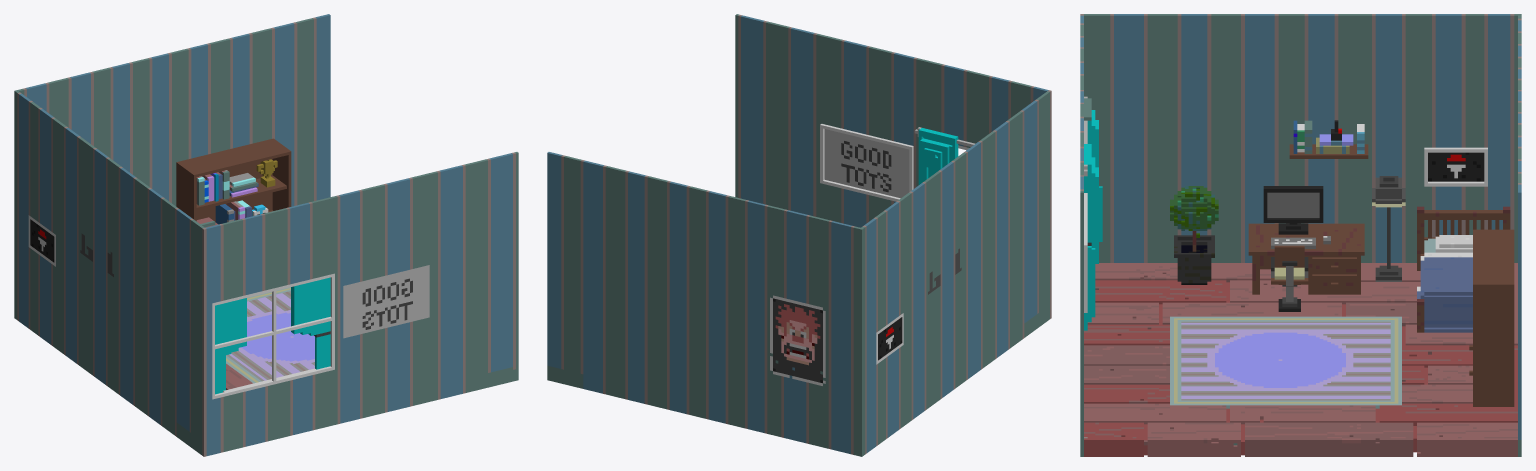
Rendered from Romm_final_0.obj.
3 renders of one model, left to right at view 1: azimuth 30°, elevation 25°; view 2: azimuth 150°, elevation 25°; view 3: azimuth 270°, elevation 25°, orthographic. The views are drawn at different scales.
Bounding box in the file's own units: 113 × 78 × 118.
Materials: 1 (1 with a texture image).
